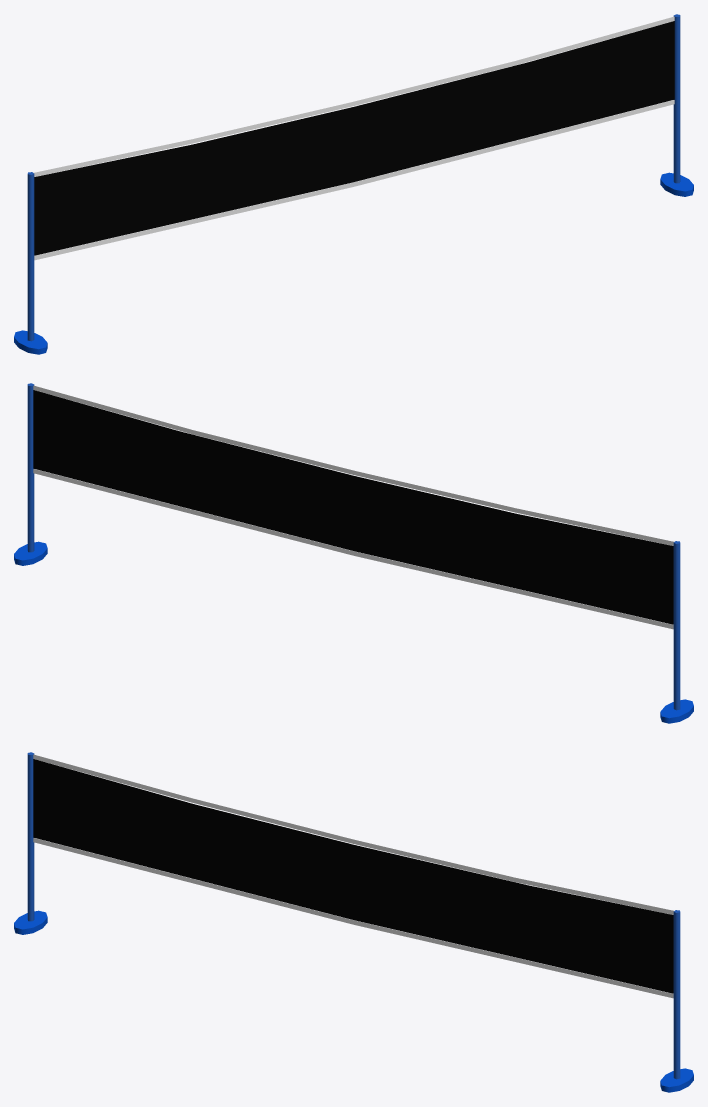
File: Badminton_net.obj
3 views of the same model, one above another, from view 1: azimuth 30°, elevation 25°; view 2: azimuth 150°, elevation 25°; view 3: azimuth 330°, elevation 25° (orthographic).
Parts seen in each view (by area): view 1: 000_mesh_-_baked, 002_ribbon-bottom_-_baked, 001_ribbon-top_-_baked, 006_pole, 005_pole, 004_base, 003_base; view 2: 000_mesh_-_baked, 002_ribbon-bottom_-_baked, 001_ribbon-top_-_baked, 006_pole, 005_pole, 004_base, 003_base; view 3: 000_mesh_-_baked, 002_ribbon-bottom_-_baked, 001_ribbon-top_-_baked, 005_pole, 006_pole, 003_base, 004_base.
Part boxes in pixels (x1=…): 000_mesh_-_baked: x1=34, y1=21, x2=674, y2=255; 002_ribbon-bottom_-_baked: x1=34, y1=100, x2=674, y2=260; 001_ribbon-top_-_baked: x1=34, y1=16, x2=674, y2=176; 006_pole: x1=27, y1=172, x2=34, y2=341; 005_pole: x1=673, y1=14, x2=680, y2=183; 004_base: x1=14, y1=330, x2=47, y2=354; 003_base: x1=660, y1=172, x2=693, y2=196; 000_mesh_-_baked: x1=33, y1=390, x2=673, y2=624; 002_ribbon-bottom_-_baked: x1=33, y1=469, x2=673, y2=629; 001_ribbon-top_-_baked: x1=33, y1=385, x2=673, y2=545; 006_pole: x1=673, y1=541, x2=680, y2=710; 005_pole: x1=27, y1=383, x2=34, y2=552; 004_base: x1=660, y1=699, x2=693, y2=723; 003_base: x1=14, y1=541, x2=47, y2=565; 000_mesh_-_baked: x1=33, y1=759, x2=673, y2=993; 002_ribbon-bottom_-_baked: x1=33, y1=838, x2=673, y2=998; 001_ribbon-top_-_baked: x1=33, y1=754, x2=673, y2=914; 005_pole: x1=673, y1=910, x2=680, y2=1079; 006_pole: x1=27, y1=752, x2=34, y2=921; 003_base: x1=660, y1=1068, x2=693, y2=1092; 004_base: x1=14, y1=910, x2=47, y2=934.
Size of the model in its own units: 6324 by 1550 by 380.
Materials: 5 (1 with a texture image).
